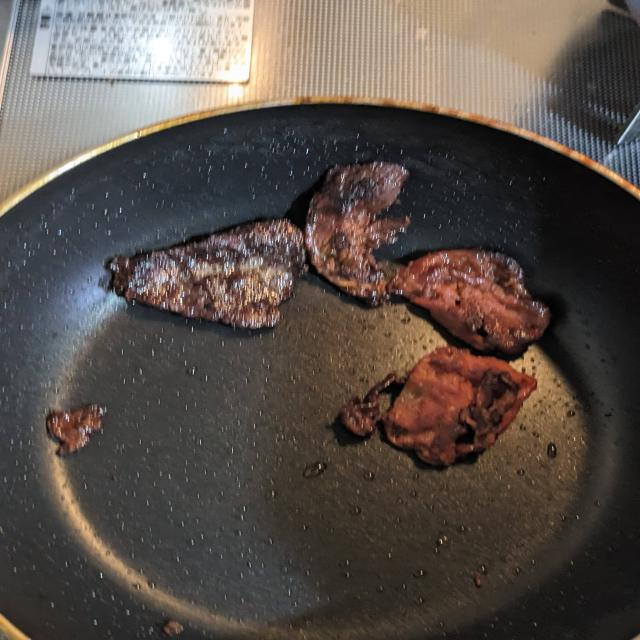overcooked beef,: (104, 215, 307, 333), (298, 161, 414, 302)
overcooked pork: (324, 339, 548, 470), (398, 240, 564, 363)
